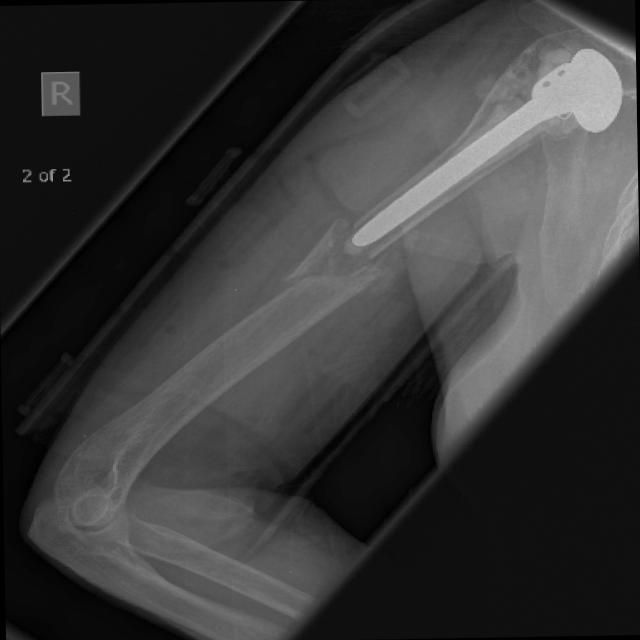humerus fracture: (229, 151, 457, 382)
